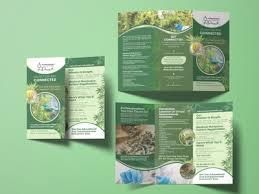paper: (112, 10, 234, 186), (26, 56, 106, 140)
